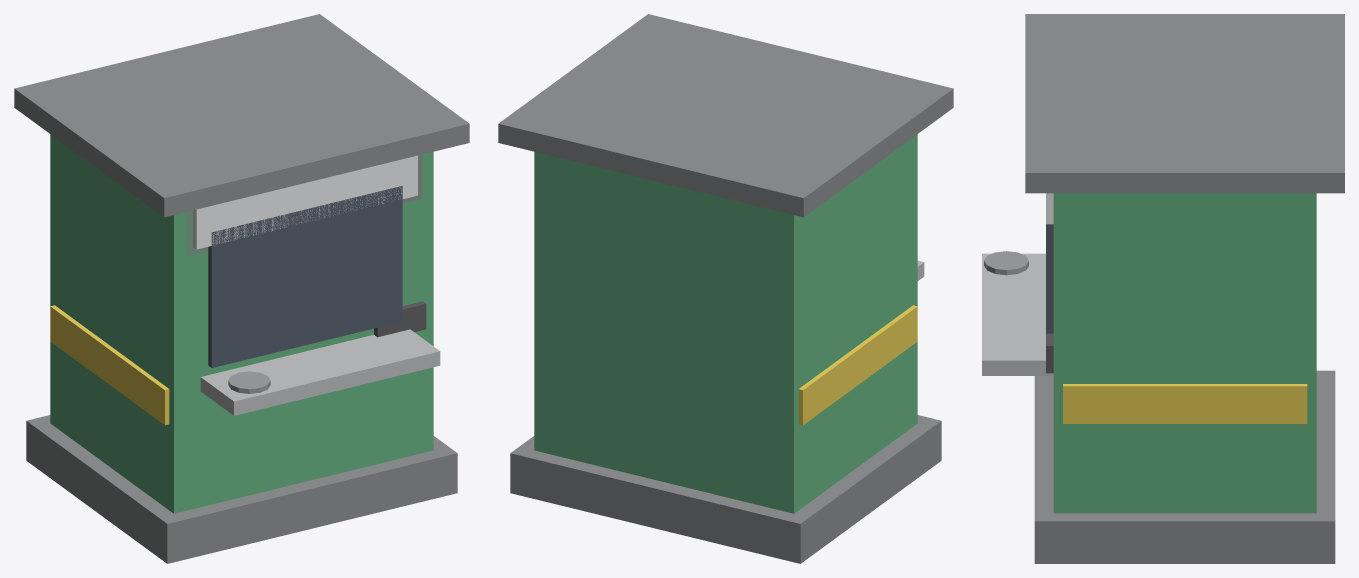
The model's file is machine_seller.glb.
3 views of the same model, side by side, from view 1: azimuth 30°, elevation 25°; view 2: azimuth 150°, elevation 25°; view 3: azimuth 270°, elevation 25° (orthographic). The views are drawn at different scales.
Parts seen in each view (by area): view 1: MV_body, MV_roof, MV_window, MV_base, MV_counter, MV_sign, MV_side_stripe2, MV_slot, MV_bell, MV_sign_bg; view 2: MV_body, MV_roof, MV_base, MV_side_stripe2; view 3: MV_body, MV_roof, MV_base, MV_side_stripe, MV_counter, MV_bell, MV_window.
Boxes of the visible parts, x1=… form: MV_body: x1=50, y1=134, x2=433, y2=513; MV_roof: x1=14, y1=14, x2=469, y2=217; MV_window: x1=208, y1=186, x2=402, y2=367; MV_base: x1=26, y1=415, x2=457, y2=563; MV_counter: x1=200, y1=329, x2=440, y2=415; MV_sign: x1=193, y1=155, x2=417, y2=249; MV_side_stripe2: x1=50, y1=305, x2=169, y2=425; MV_slot: x1=374, y1=301, x2=426, y2=337; MV_bell: x1=228, y1=371, x2=270, y2=393; MV_sign_bg: x1=185, y1=154, x2=421, y2=256; MV_body: x1=534, y1=134, x2=917, y2=513; MV_roof: x1=498, y1=14, x2=953, y2=217; MV_base: x1=510, y1=415, x2=941, y2=563; MV_side_stripe2: x1=798, y1=305, x2=917, y2=425; MV_body: x1=1053, y1=193, x2=1316, y2=513; MV_roof: x1=1025, y1=14, x2=1344, y2=193; MV_base: x1=1034, y1=370, x2=1335, y2=563; MV_side_stripe: x1=1063, y1=384, x2=1307, y2=423; MV_counter: x1=982, y1=253, x2=1053, y2=375; MV_bell: x1=984, y1=251, x2=1028, y2=275; MV_window: x1=1046, y1=224, x2=1053, y2=333.
Size of the model in its own units: 2 by 2.32 by 1.93.
